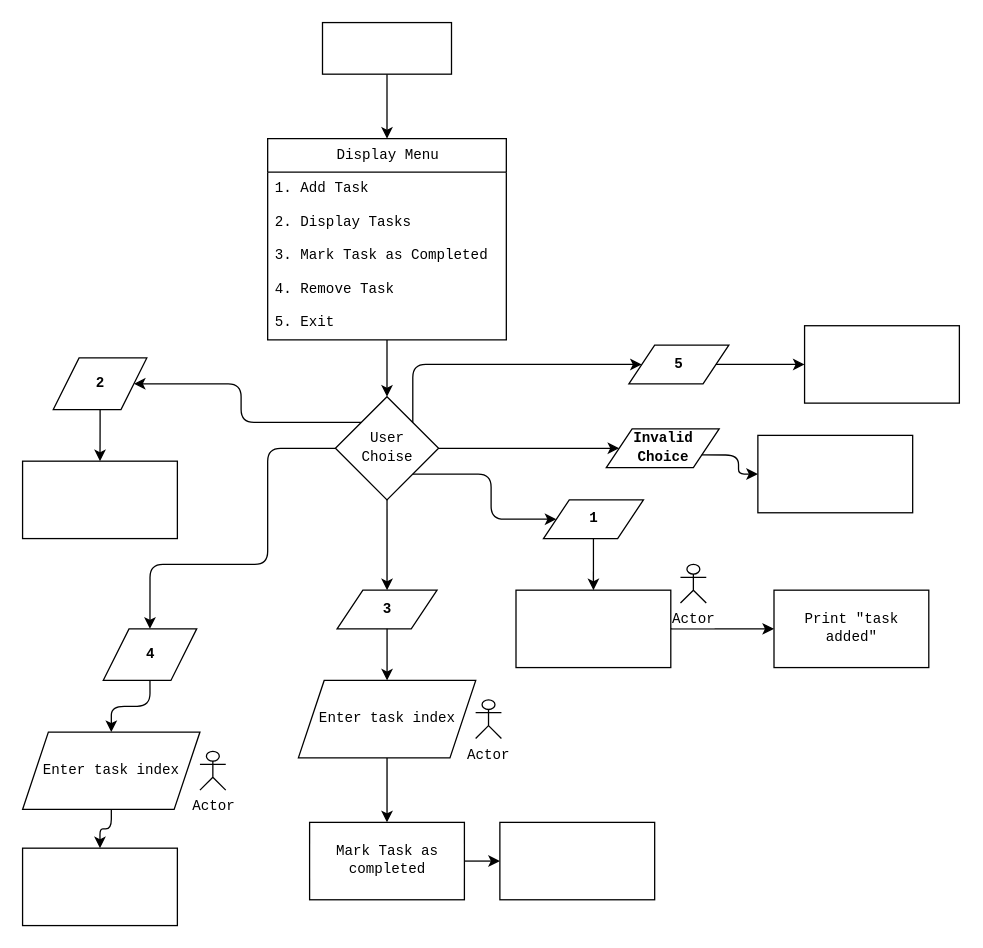
Image size: 983x948. Some labels were removed from this diagram. The centre of each missing label's shape, as x and y in pixels:
Display Task List: pixel 99 499
Enter task description: pixel 593 628
Print "Goodbye!": pixel 881 363
Print "Invalid Choice. Please choose a valid option.": pixel 835 473
Print "Task marked as completed": pixel 577 860
Remove task from list: pixel 99 886
Task Manager App: pixel 386 47
